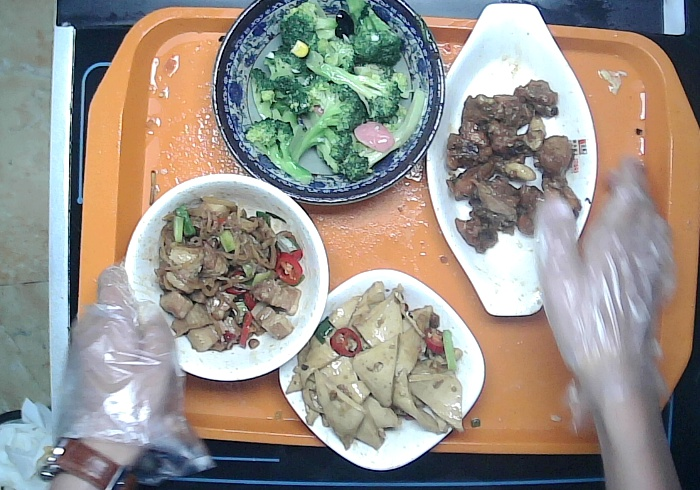ZNLD-Qing_Hua_Wan: (211, 1, 446, 207)
ZNLD-Si_Fang_Wan: (278, 268, 488, 473)
ZNLD-Tang_Wan: (122, 174, 331, 383)
ZNLD-Yu_Pan: (426, 1, 598, 317)
